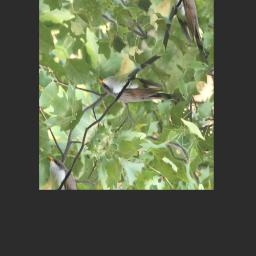Cuckoo: (95, 45, 184, 141)
